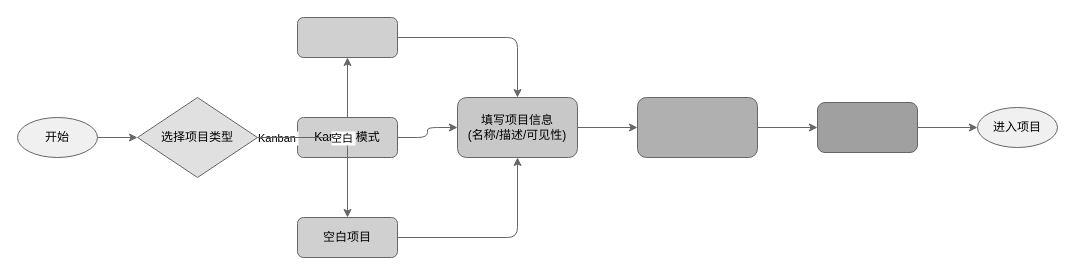
The diagram is 1075 pixels wide and 275 high, and some of its shapes have lost their labels. Each missing label, with the box of its shape:
Scrum模式: (296, 16, 398, 58)
模板初始化 (状态/点数/角色): (636, 96, 758, 158)
邀请成员 (可选): (816, 102, 918, 152)
